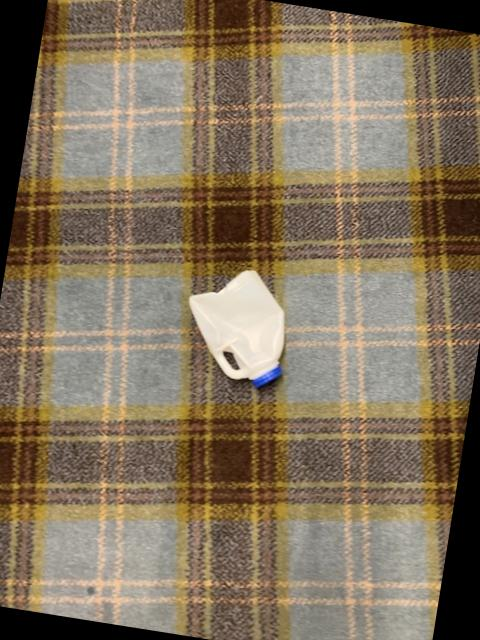plastic: (191, 269, 286, 386)
